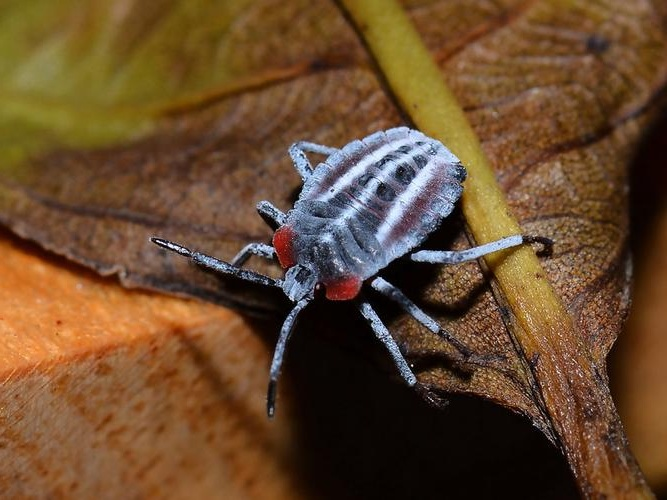Stink_Bug: (228, 120, 472, 312)
